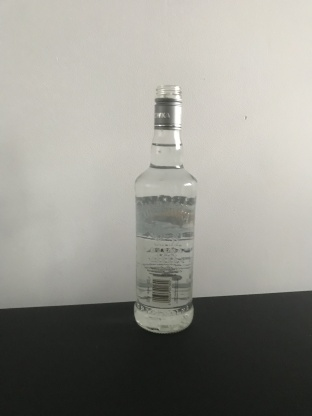nakretka: (152, 82, 183, 131)
